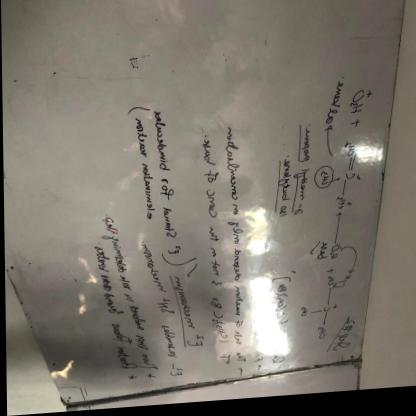Handwritten text: (141, 89, 209, 363), (98, 208, 159, 384), (81, 241, 135, 382), (195, 122, 225, 372), (134, 239, 184, 389), (220, 126, 248, 370), (271, 114, 314, 238)
Whiteboard: (0, 0, 410, 409)
